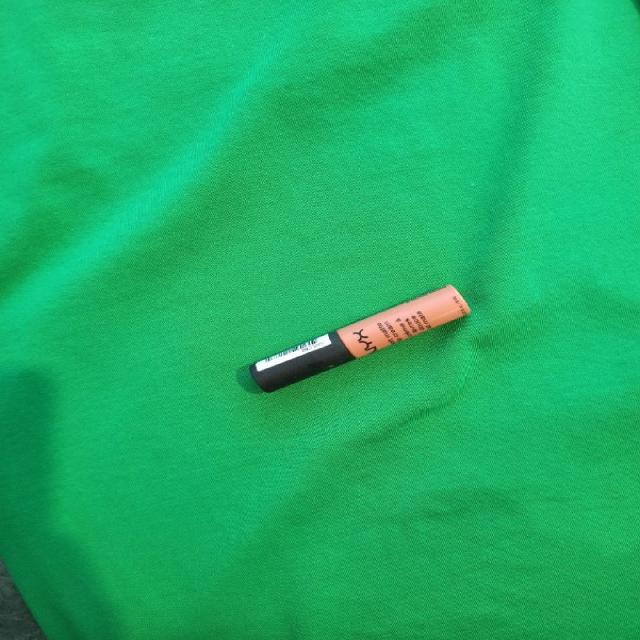lipstick: (248, 283, 471, 393)
